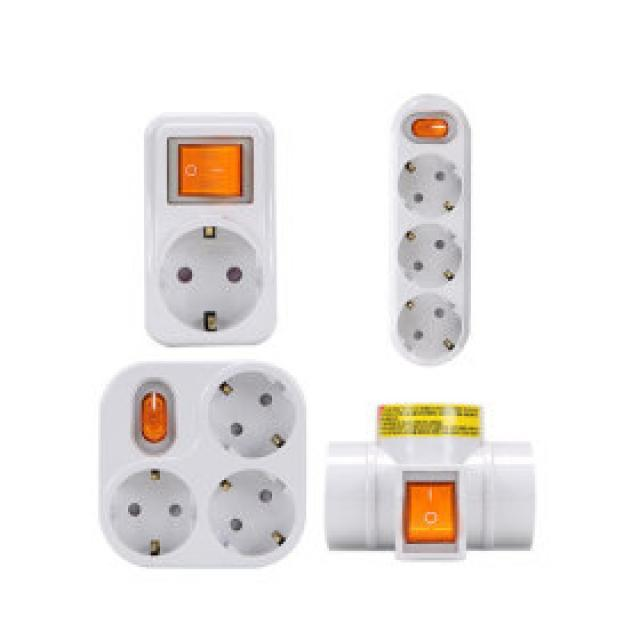typeb: (83, 358, 324, 576), (134, 96, 284, 348), (371, 104, 444, 264)
